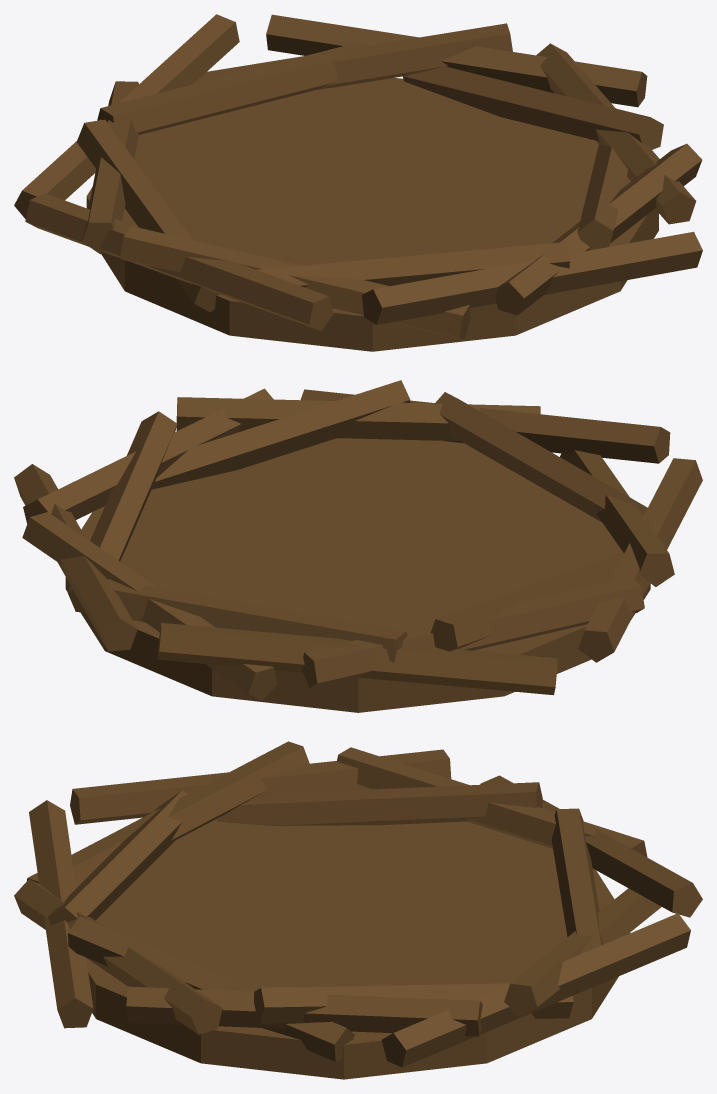
File: Clue_Nest.obj
3 views of the same model, one above another, from view 1: azimuth 30°, elevation 25°; view 2: azimuth 150°, elevation 25°; view 3: azimuth 270°, elevation 25° (orthographic). The views are drawn at different scales.
Parts seen in each view (by area): view 1: Clue_Nest; view 2: Clue_Nest; view 3: Clue_Nest.
Part boxes in pixels (x1=…): Clue_Nest: x1=14, y1=14, x2=702, y2=351; Clue_Nest: x1=14, y1=380, x2=702, y2=712; Clue_Nest: x1=14, y1=741, x2=702, y2=1079.
Bounding box in the file's own units: 0.732 × 0.0999 × 0.722.
